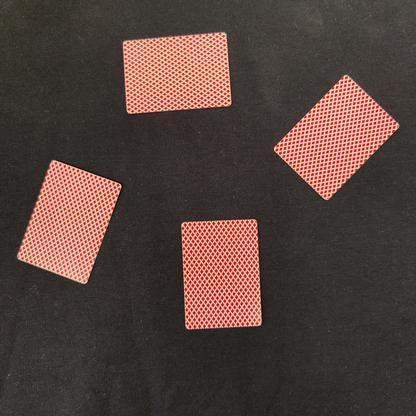card: (271, 64, 406, 208), (11, 155, 129, 293), (107, 25, 245, 120), (171, 213, 275, 338)
